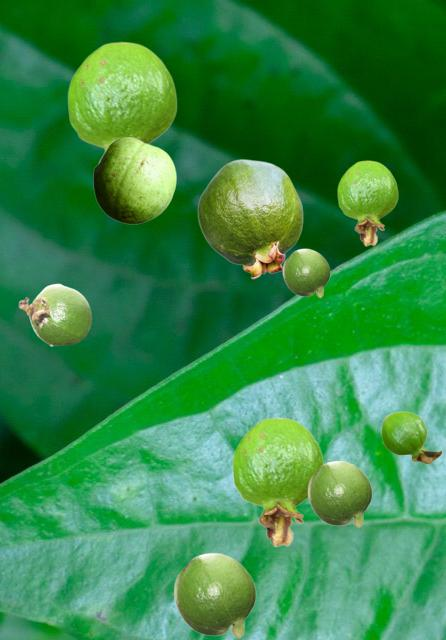guava: (67, 41, 176, 162), (197, 159, 302, 278), (232, 417, 323, 546), (173, 552, 255, 638), (93, 137, 175, 223), (337, 160, 397, 245), (18, 283, 91, 345), (307, 460, 371, 527), (381, 411, 441, 463), (282, 248, 329, 297)
